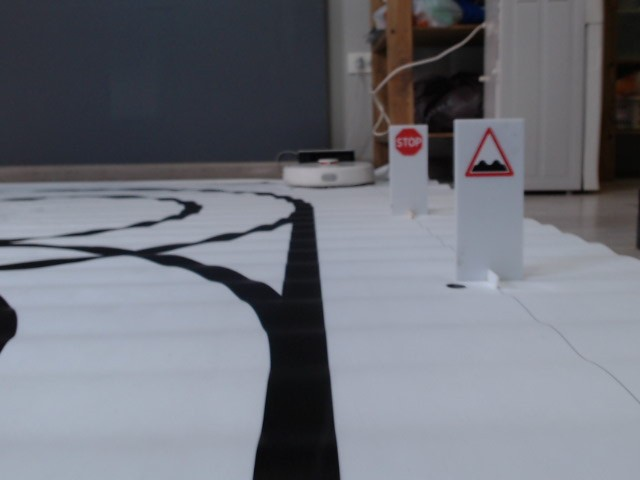Nerov: (464, 128, 518, 184)
Stop: (394, 129, 423, 156)
